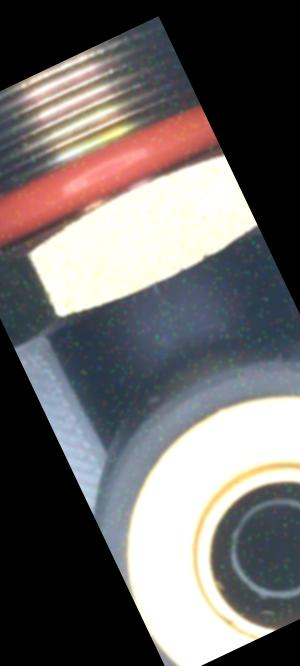joint line: (166, 308, 202, 357)
white mark: (145, 275, 169, 303)
